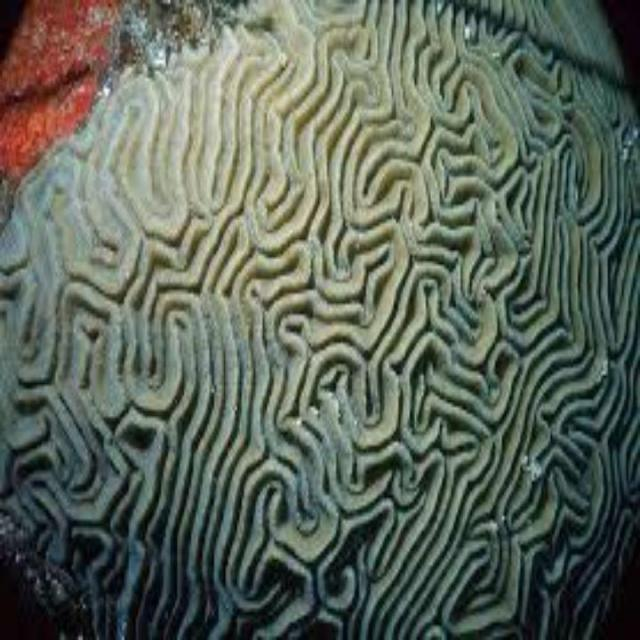Bleached Coral: (39, 40, 640, 640)
